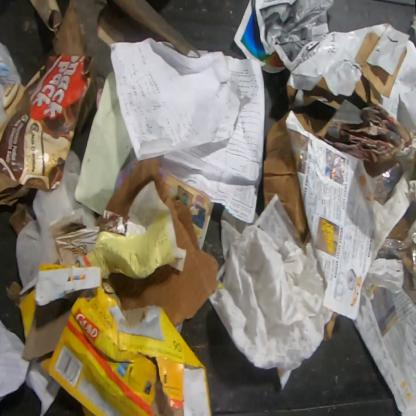cardboard: (5, 263, 214, 415), (0, 53, 99, 190), (286, 22, 411, 111), (263, 110, 312, 247), (95, 0, 202, 60), (0, 81, 26, 146), (291, 110, 341, 139), (26, 0, 63, 35), (0, 173, 32, 208), (324, 311, 340, 342), (386, 218, 409, 239), (401, 256, 413, 275)
soft_plastic: (207, 195, 334, 372), (15, 146, 96, 288), (377, 212, 415, 279), (373, 161, 404, 205)
